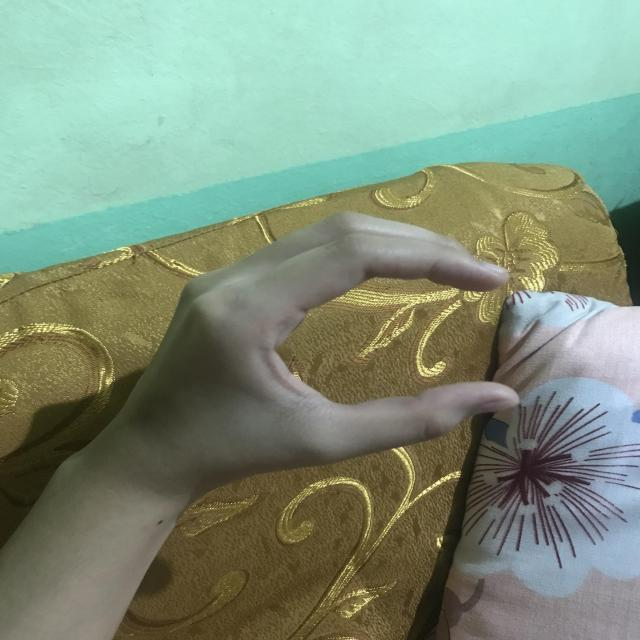C: (142, 208, 524, 487)
